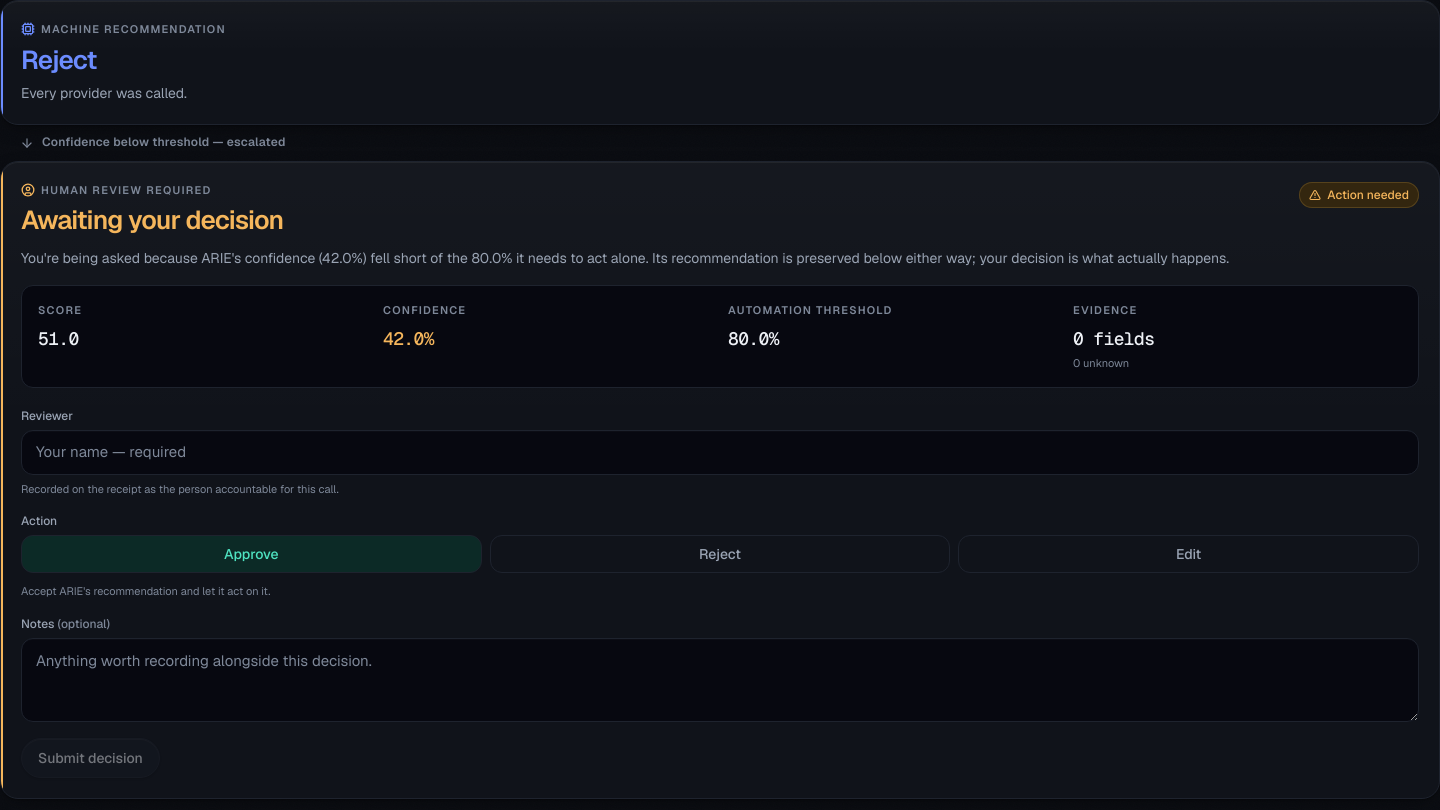
Test case: HumanReviewPanel — pending review › requires non-empty notes before an edit can be submitted
In the field with placeholder "Your name — required": x=720, y=453 21,430 -> 1419,475, type "jane"
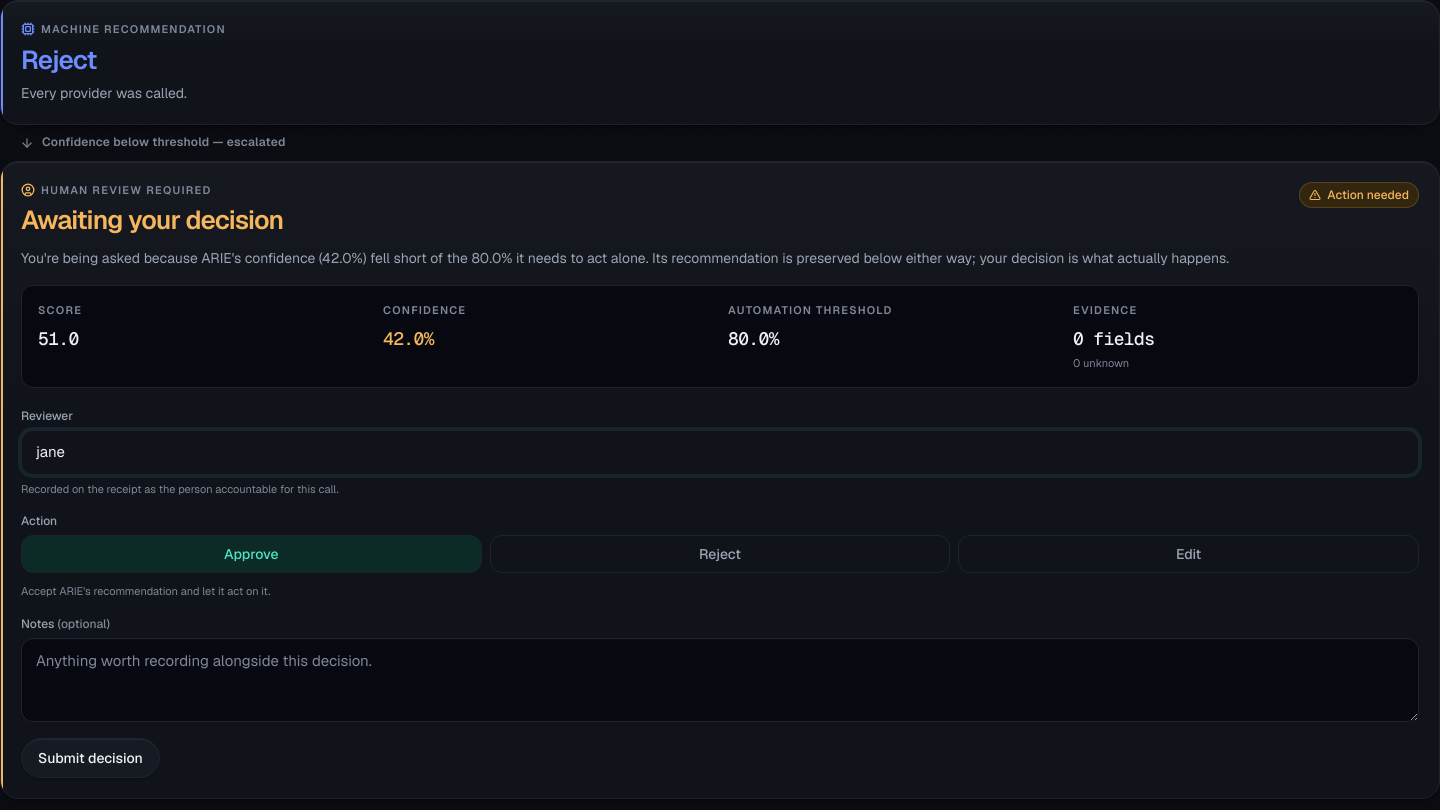
Click the button "Edit": x=1189, y=554 958,535 -> 1419,573
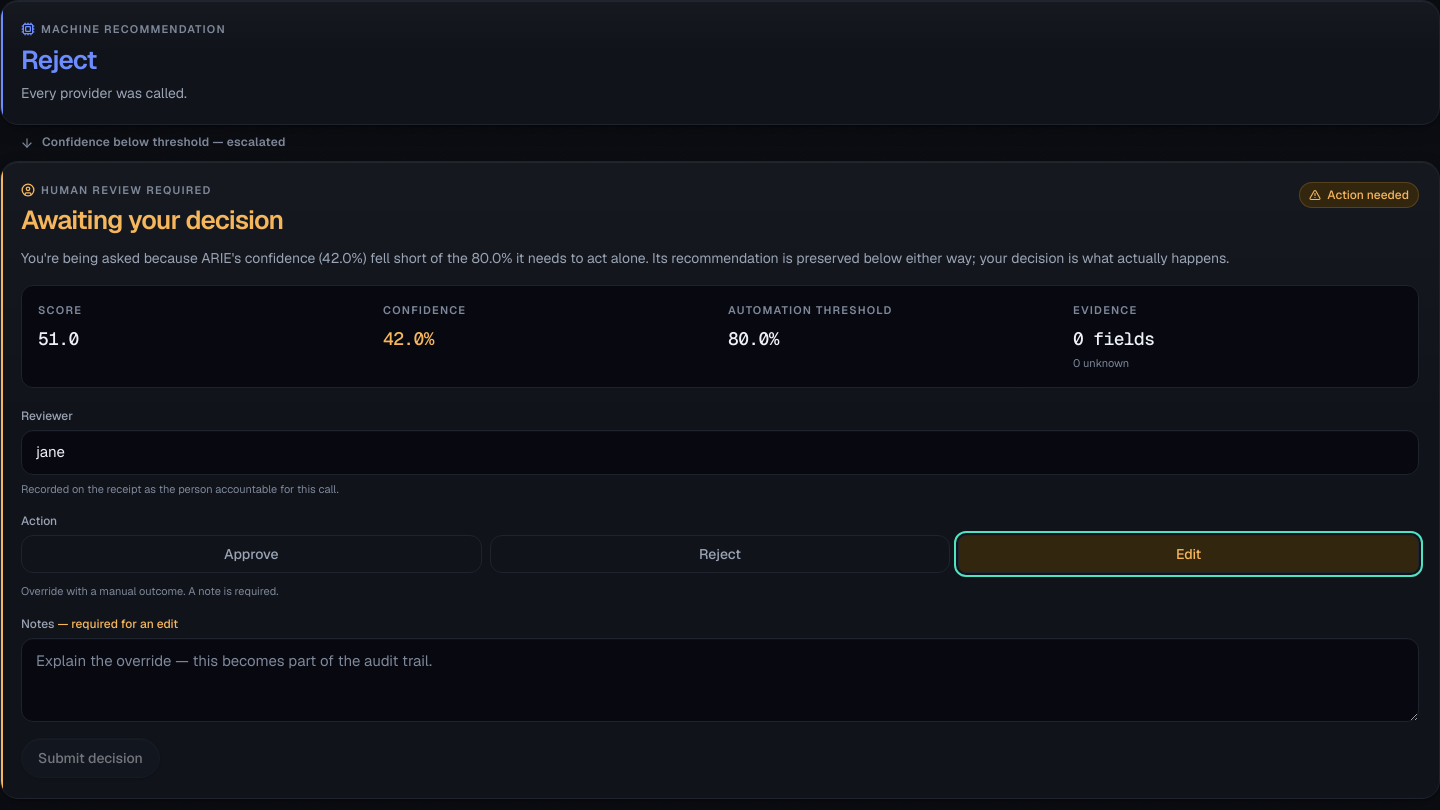
Check: the button "Submit decision" is disabled, box 21,738 -> 160,778
In the text box with placeholder "Explain the override": x=720, y=680 21,638 -> 1419,722, type "Title was misread"
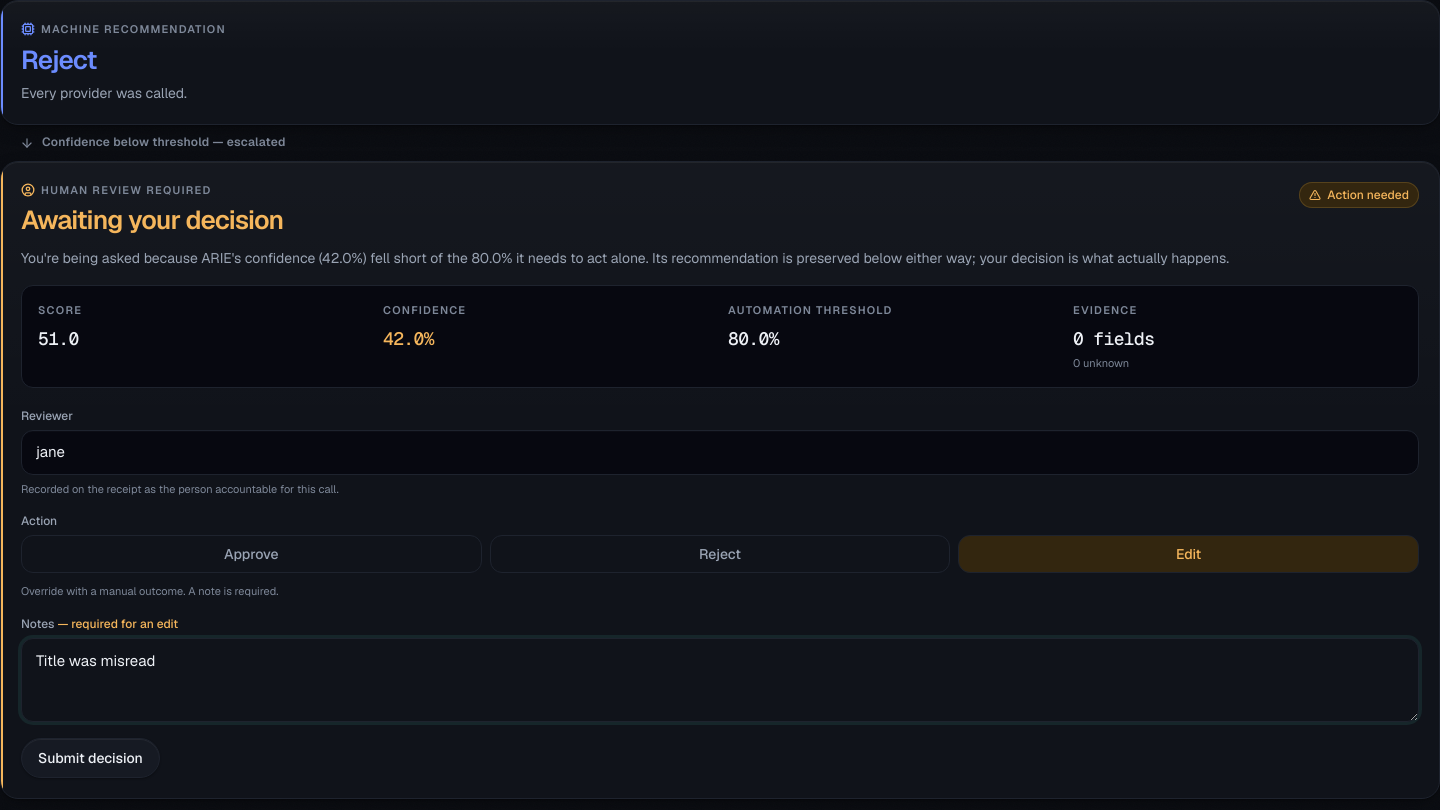
Check: the button "Submit decision" is enabled, box 21,738 -> 160,778
